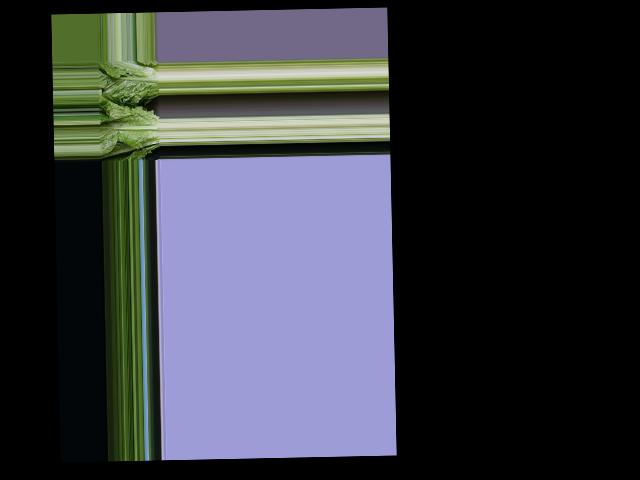lettuce: (101, 63, 160, 103)
